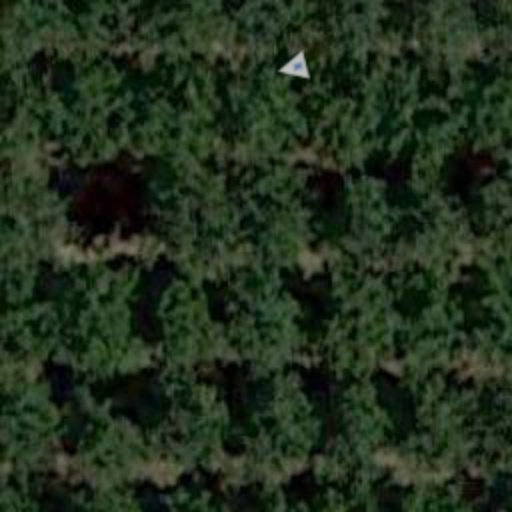triangle: (274, 50, 310, 86)
